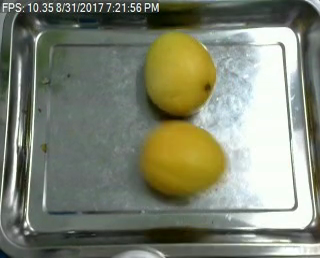Mango: (137, 121, 228, 200), (145, 29, 217, 116)
